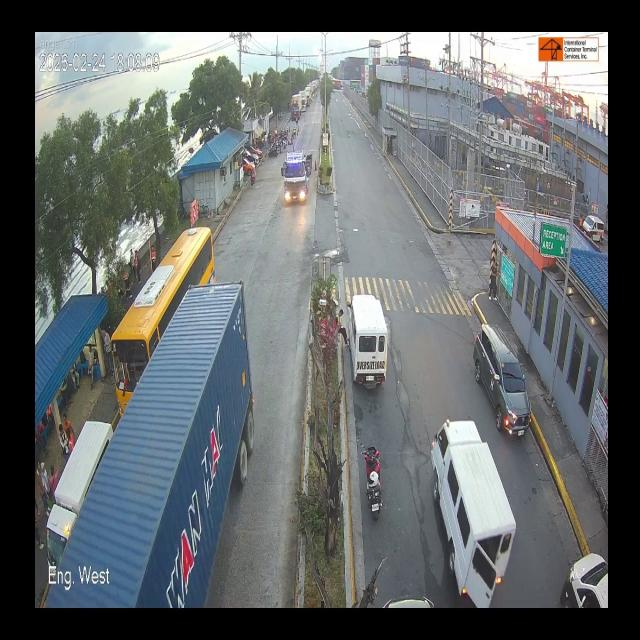bus: (115, 223, 205, 389)
car: (420, 418, 518, 602), (484, 316, 528, 434), (345, 292, 393, 386)
motorcycle: (364, 438, 384, 527)
truck: (44, 280, 279, 605), (280, 144, 320, 208), (288, 94, 302, 122)
